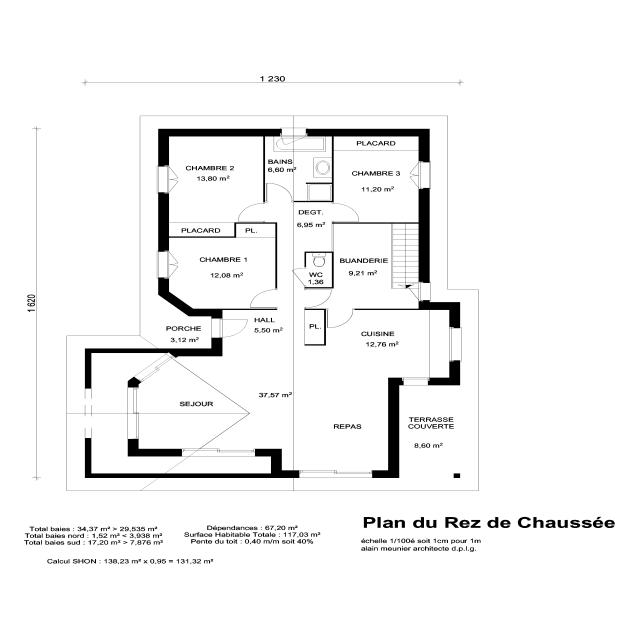door: (324, 307, 356, 330), (214, 317, 248, 338), (302, 287, 335, 308), (237, 200, 268, 222), (247, 287, 279, 308), (159, 164, 179, 195), (330, 202, 360, 222), (266, 181, 294, 201), (400, 374, 432, 390), (409, 282, 435, 300)
window: (82, 387, 97, 438), (446, 324, 464, 365), (127, 386, 140, 440), (156, 248, 176, 282), (158, 162, 178, 195), (417, 158, 433, 192)
zone: (134, 348, 392, 457), (165, 134, 267, 222), (166, 236, 279, 310), (332, 135, 422, 223), (332, 222, 403, 306), (267, 134, 333, 202), (294, 200, 333, 250), (301, 251, 332, 288), (167, 222, 234, 236)
